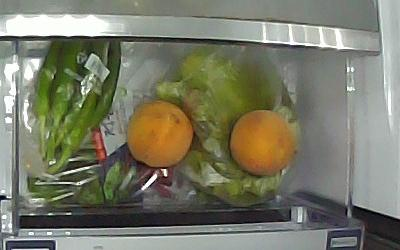peach: (125, 100, 195, 169), (229, 108, 295, 178)
